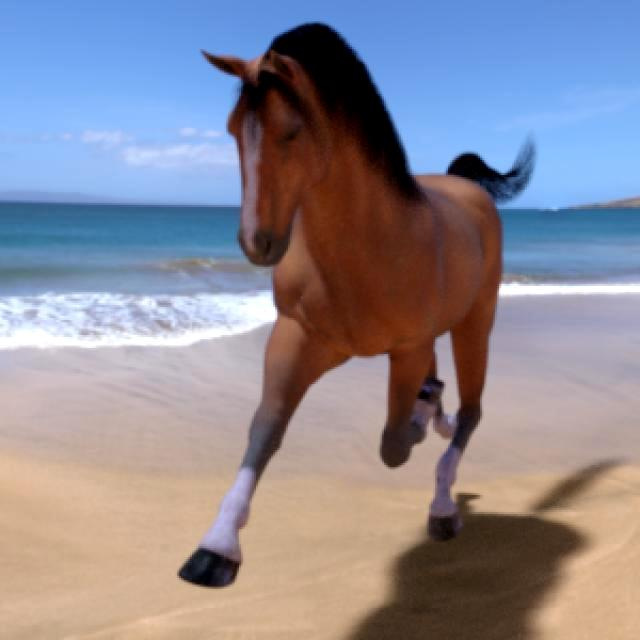horse: (179, 24, 534, 587)
